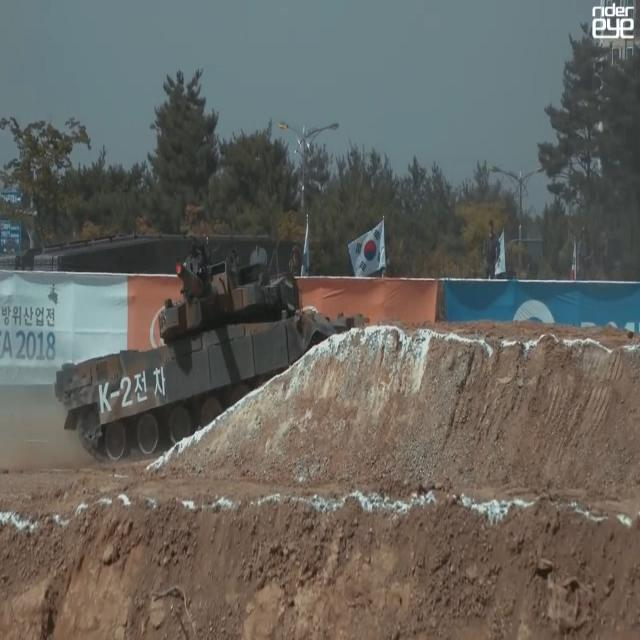korea tank: (53, 232, 372, 467)
